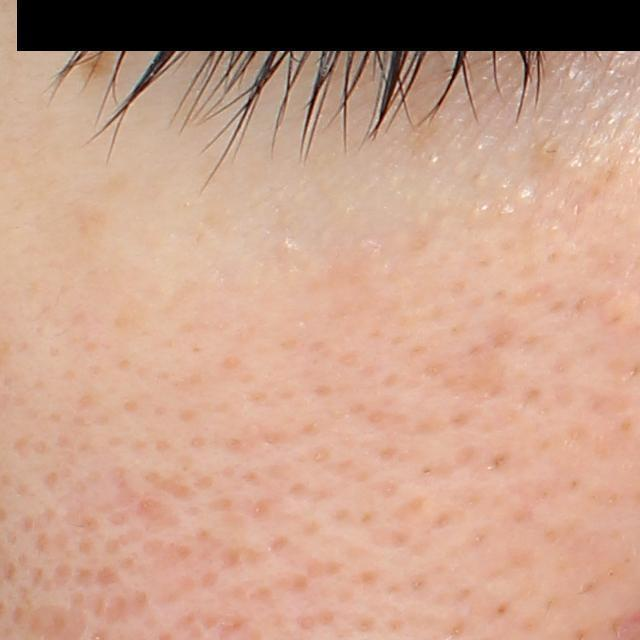melasma: (75, 38, 116, 85)
